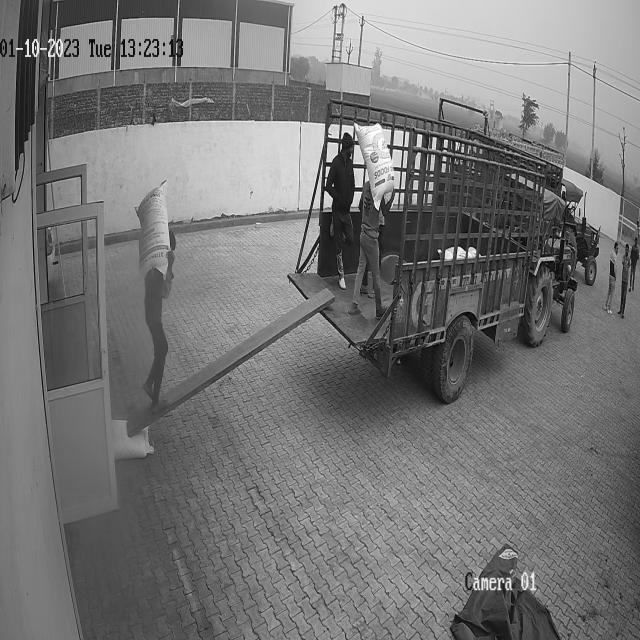sack: (136, 178, 170, 278), (356, 124, 394, 211), (111, 418, 154, 460)
